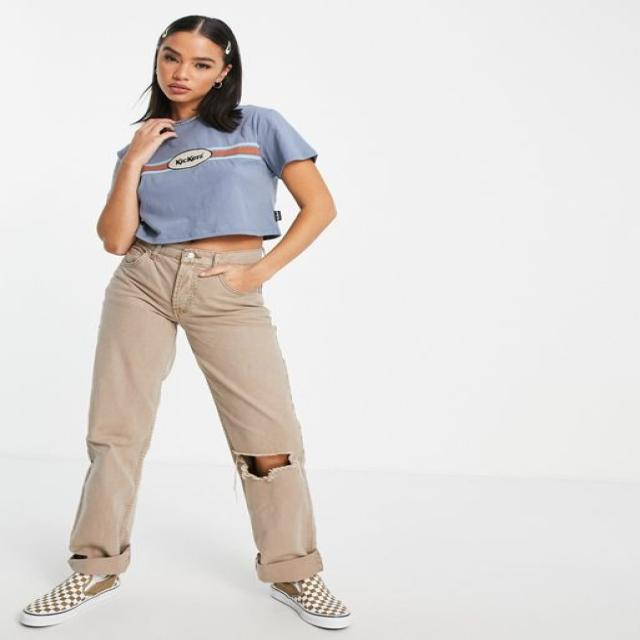tshirt: (112, 102, 318, 247)
